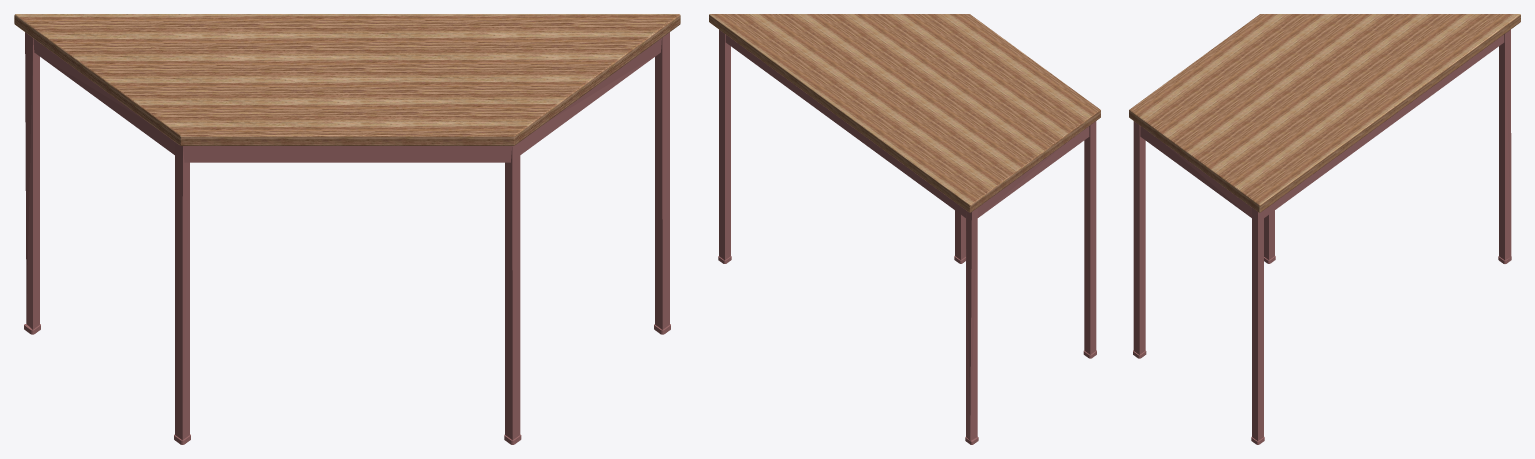
File: conference_form28_140x70_FIN.fbx
3 views of the same model, side by side, from view 1: azimuth 30°, elevation 25°; view 2: azimuth 150°, elevation 25°; view 3: azimuth 270°, elevation 25° (orthographic). The views are drawn at different scales.
Parts seen in each view (by area): view 1: drewno_mesh, metal_mesh; view 2: drewno_mesh, metal_mesh; view 3: drewno_mesh, metal_mesh.
Part boxes in pixels (box(x1,y1,x2,y2)): drewno_mesh: box(14, 14, 680, 145); metal_mesh: box(25, 32, 669, 440); drewno_mesh: box(709, 14, 1100, 212); metal_mesh: box(719, 29, 1096, 440); drewno_mesh: box(1129, 14, 1520, 212); metal_mesh: box(1133, 29, 1511, 440).
Bounding box in the file's own units: 121 × 72 × 105.
